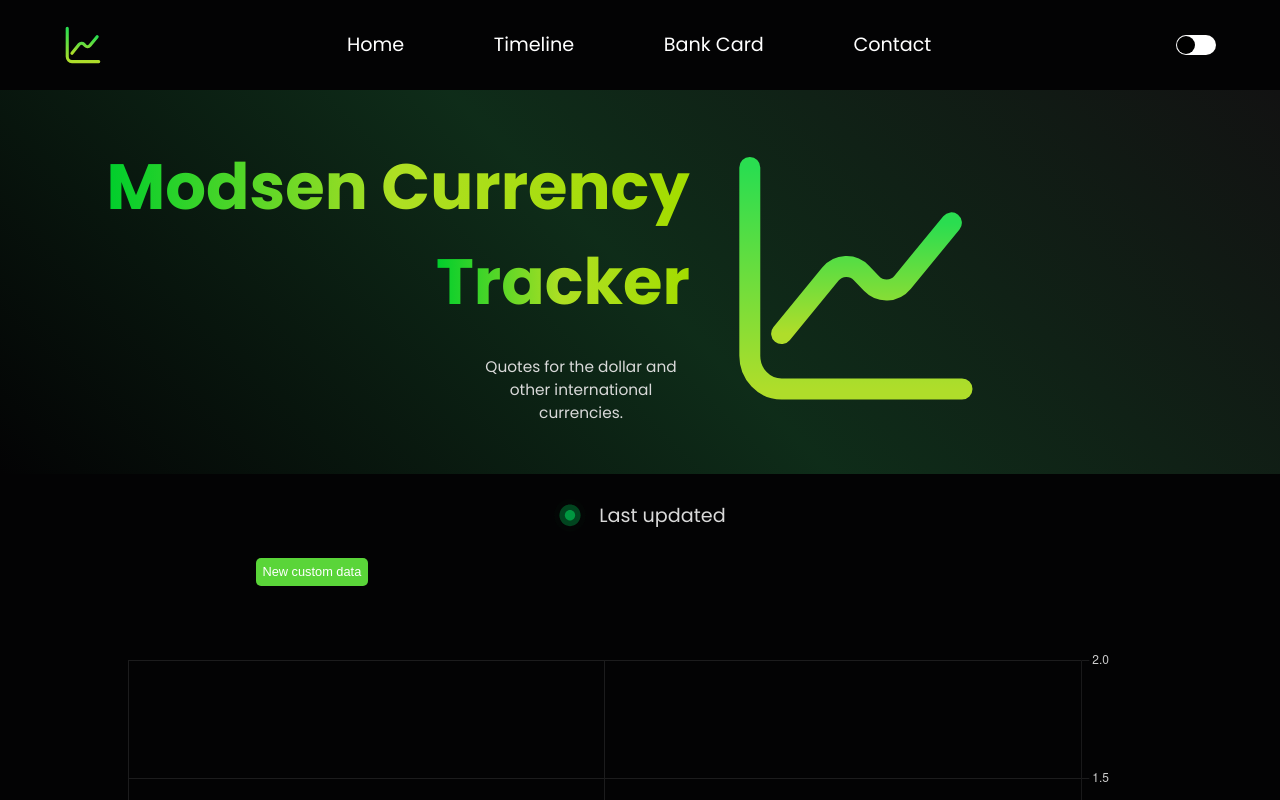
Test: Timeline Page Tests › Should add new field correctly
Click the button "New custom data".
click(312, 572)  # box x1=256 y1=558 x2=368 y2=586
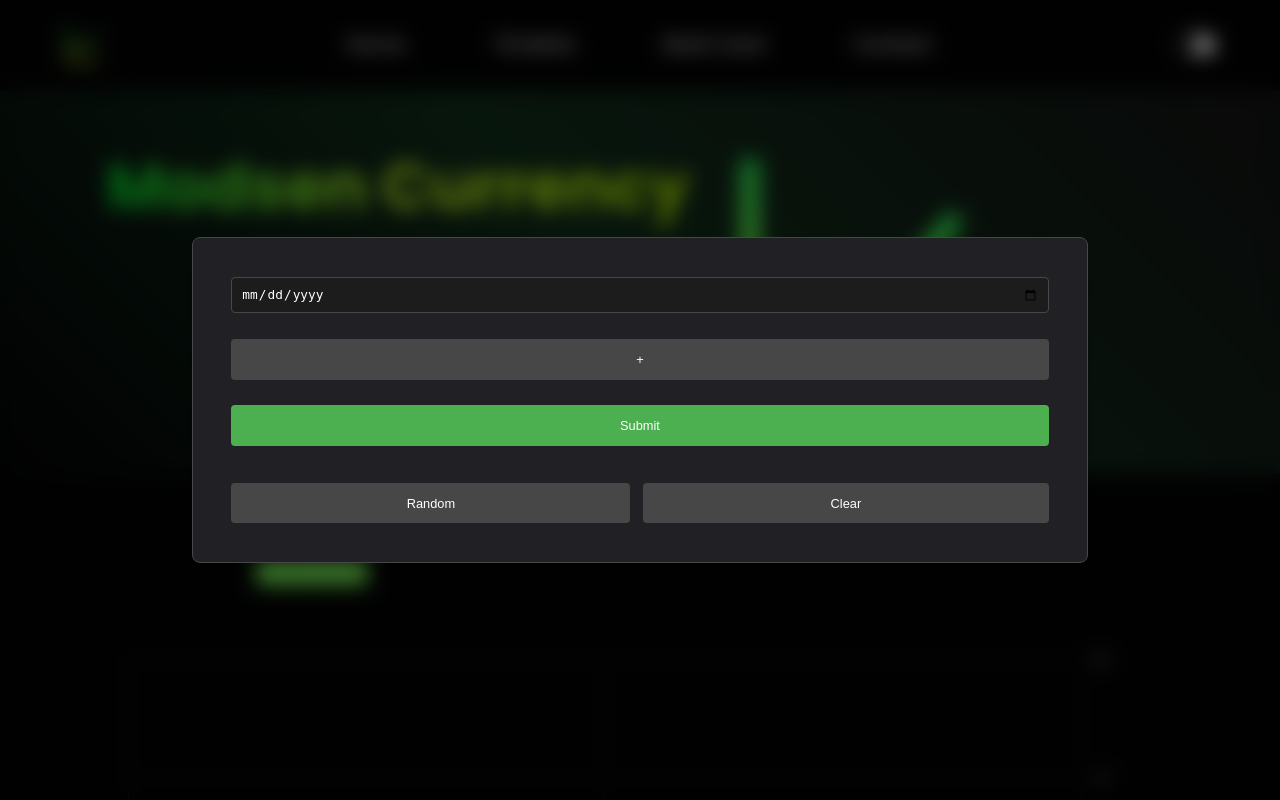
Click the button with test id "add-button".
click(640, 360)  # box x1=231 y1=339 x2=1048 y2=380
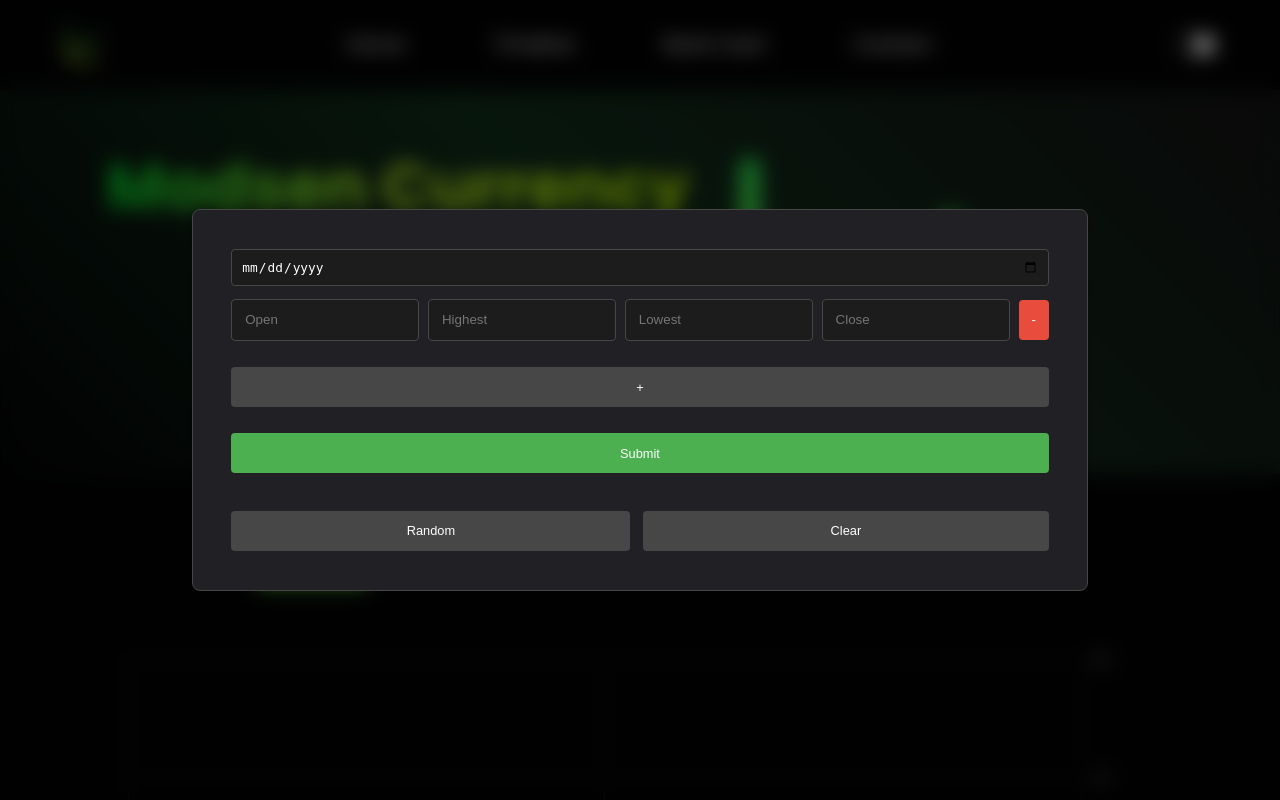
Result: the number of elements with test id "field-container" is 1 at x1=231 y1=299 x2=1048 y2=342
